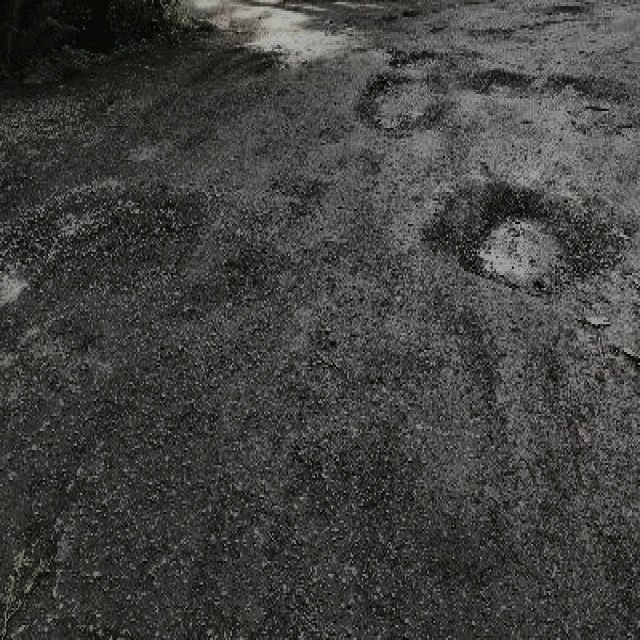Pothole: (0, 175, 211, 296), (430, 181, 602, 299), (350, 68, 456, 132), (542, 70, 632, 139), (466, 66, 532, 98)
